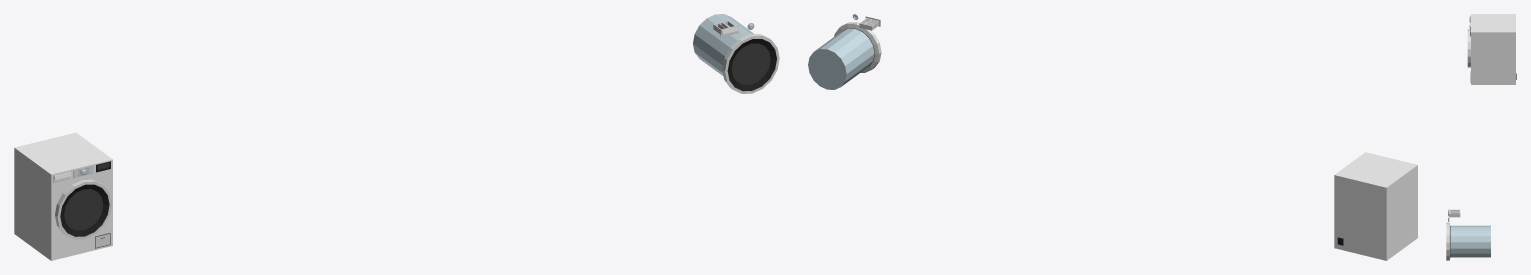
File: washerDryer.glb
3 renders of one model, left to right at view 1: azimuth 30°, elevation 25°; view 2: azimuth 150°, elevation 25°; view 3: azimuth 270°, elevation 25°, orthographic. The views are drawn at different scales.
Visible parts, largest first — view 1: Low Poly Washer, KA-F600_Washer_V1_Door.001, KA-F600_Washer_V1_Door, KA-F600_Washer_V1_Tub; view 2: Low Poly Washer, KA-F600_Washer_V1_Tub, KA-F600_Washer_V1_Door; view 3: Low Poly Washer, KA-F600_Washer_V1_Tub, KA-F600_Washer_V1_Door, KA-F600_Washer_V1_Door.001, KA-F600_Washer_V1_Tray.
Boxes of the visible parts, bbox=[...] form: Low Poly Washer: bbox=[14, 132, 112, 260]; KA-F600_Washer_V1_Door.001: bbox=[55, 179, 112, 239]; KA-F600_Washer_V1_Door: bbox=[722, 34, 779, 93]; KA-F600_Washer_V1_Tub: bbox=[693, 14, 754, 76]; Low Poly Washer: bbox=[1334, 152, 1417, 260]; KA-F600_Washer_V1_Tub: bbox=[808, 28, 874, 89]; KA-F600_Washer_V1_Door: bbox=[834, 22, 881, 72]; Low Poly Washer: bbox=[1470, 14, 1516, 84]; KA-F600_Washer_V1_Tub: bbox=[1450, 225, 1490, 257]; KA-F600_Washer_V1_Door: bbox=[1446, 222, 1450, 260]; KA-F600_Washer_V1_Door.001: bbox=[1467, 29, 1470, 67]; KA-F600_Washer_V1_Tray: bbox=[1448, 208, 1460, 218].
Size of the model in its own units: 6.87 by 0.8 by 0.9729.
Materials: 2 (2 with a texture image).
